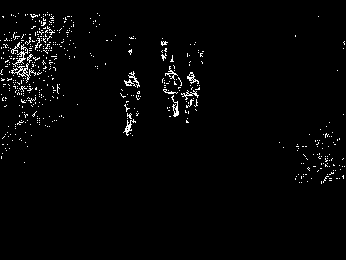person: (121, 71, 143, 137), (162, 64, 183, 118), (183, 71, 200, 122)
